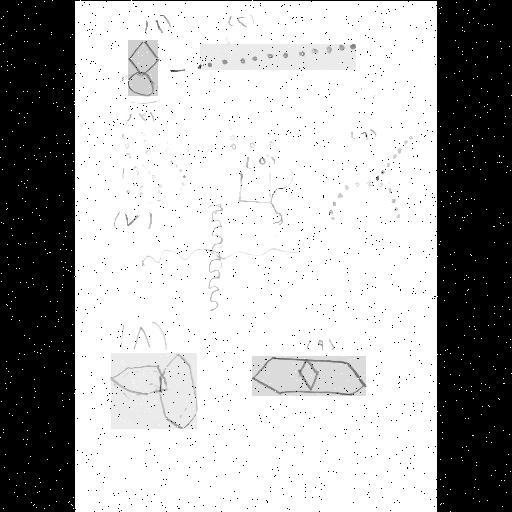shape-1: (128, 40, 158, 96)
shape-2: (200, 44, 356, 70)
shape-3: (124, 121, 312, 157)
shape-4: (124, 160, 186, 200)
shape-5: (236, 168, 294, 226)
shape-6: (330, 135, 412, 221)
shape-7: (143, 203, 301, 311)
shape-8: (111, 353, 197, 429)
shape-9: (252, 356, 366, 396)
